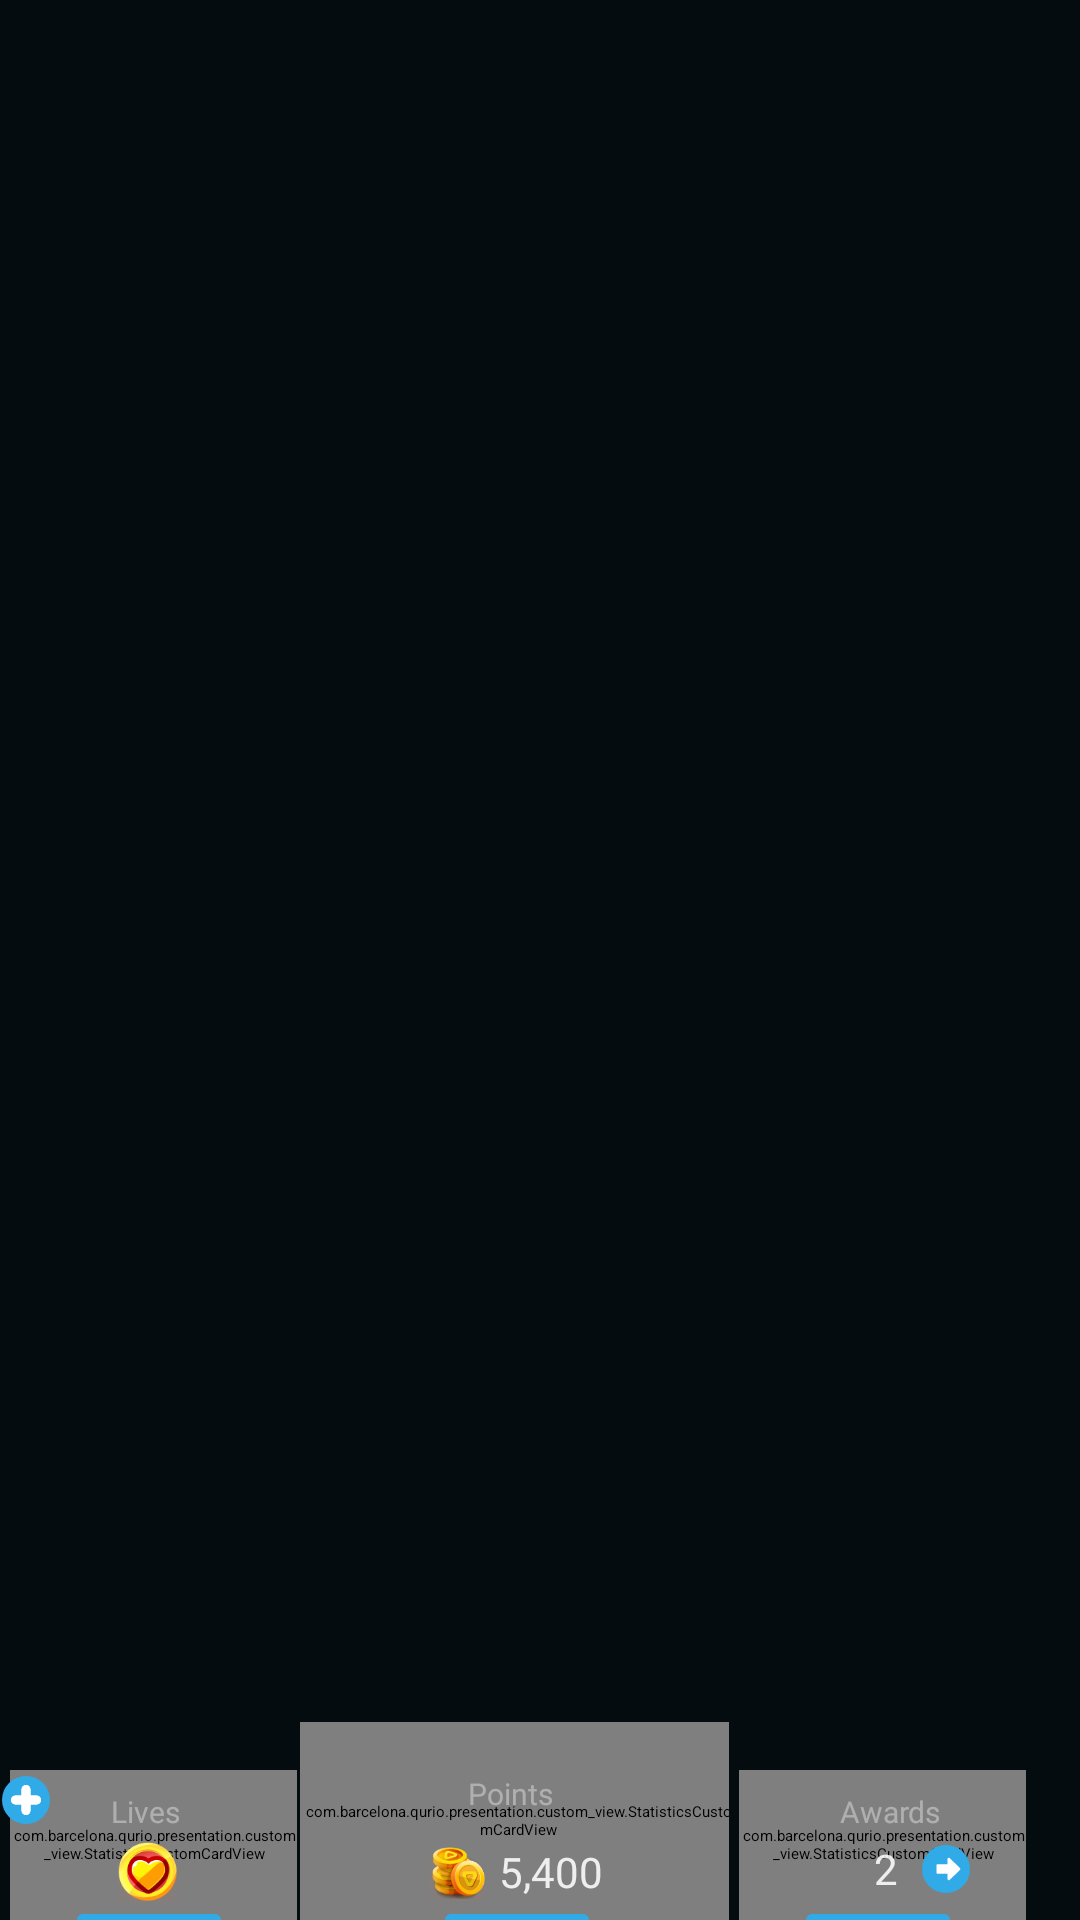

Icon bounding boxes for this 1080 × 1920 phone screenshot, format (x1, y1, x2, y2):
arraw right: (922, 1845, 970, 1893)
coins: (432, 1847, 485, 1899)
statstics add: (2, 1776, 50, 1824)
statstics heart: (118, 1842, 178, 1901)
